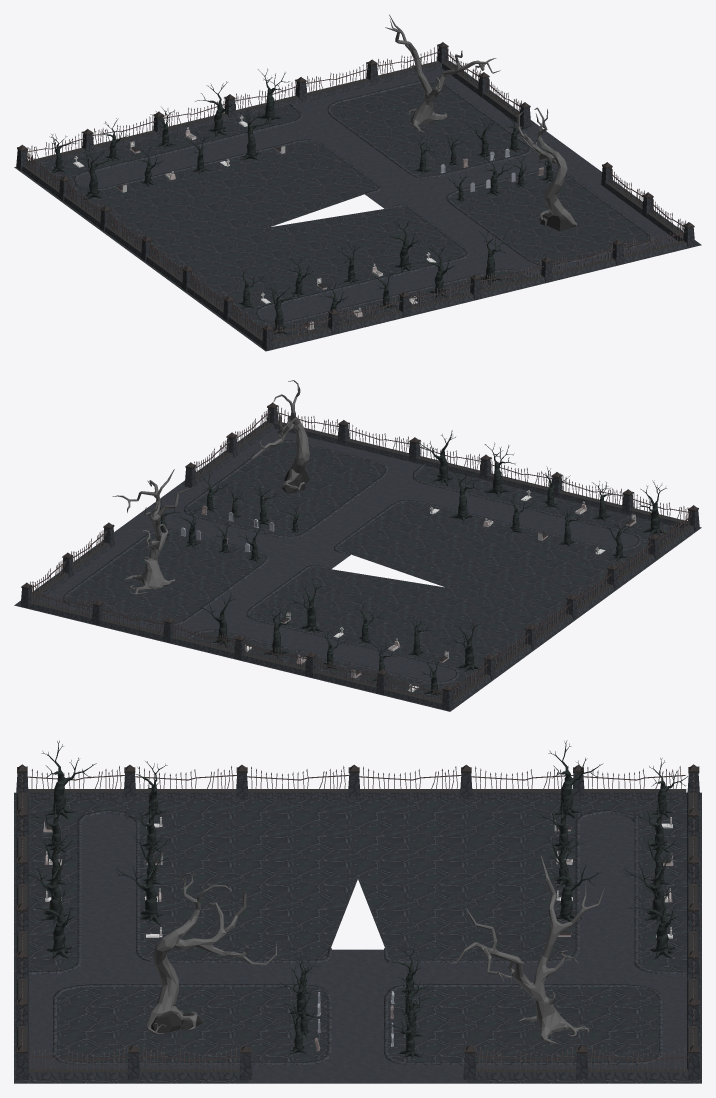
Rendered from fence.glb.
3 renders of one model, top to bottom at view 1: azimuth 30°, elevation 25°; view 2: azimuth 150°, elevation 25°; view 3: azimuth 270°, elevation 25°, orthographic. The views are drawn at different scales.
Parts seen in each view (by area): view 1: grass.001, gravel, Ext_RejaLapidas_Cube.005, walkway_curb, Ext_RejaLapidas_Cube.001, HWN20_Tree_06, HWN20_Tree_09, ColumnB.009, ColumnB.000; view 2: grass.001, gravel, Ext_RejaLapidas_Cube.005, walkway_curb, Ext_RejaLapidas_Cube.001, HWN20_Tree_09, HWN20_Tree_06, ColumnB.009, ColumnB.000; view 3: grass.001, gravel, Ext_RejaLapidas_Cube.001, walkway_curb, Ext_RejaLapidas_Cube.005, HWN20_Tree_06, HWN20_Tree_09, ColumnB.000, ColumnB.009, HWN20_Tree_01.008, HWN20_Tree_01.013, HWN20_Tree_01.022 (+9 smaller).
Part boxes in pixels (x1,y1,x2,y2): grass.001: (14, 61, 701, 351); gravel: (77, 68, 677, 321); Ext_RejaLapidas_Cube.005: (21, 45, 686, 348); walkway_curb: (74, 80, 652, 323); Ext_RejaLapidas_Cube.001: (21, 149, 266, 346); HWN20_Tree_06: (517, 107, 577, 231); HWN20_Tree_09: (385, 14, 500, 131); ColumnB.009: (604, 182, 683, 241); ColumnB.000: (442, 62, 518, 122); grass.001: (14, 421, 701, 711); gravel: (38, 428, 638, 682); Ext_RejaLapidas_Cube.005: (29, 405, 694, 708); walkway_curb: (63, 440, 641, 684); Ext_RejaLapidas_Cube.001: (452, 507, 694, 706); HWN20_Tree_09: (112, 469, 196, 594); HWN20_Tree_06: (250, 380, 309, 493); ColumnB.009: (195, 422, 273, 485); ColumnB.000: (32, 542, 110, 601); grass.001: (14, 792, 701, 1083); gravel: (28, 813, 687, 1083); Ext_RejaLapidas_Cube.001: (26, 764, 687, 799); walkway_curb: (28, 810, 687, 1074); Ext_RejaLapidas_Cube.005: (16, 773, 699, 1068); HWN20_Tree_06: (146, 870, 276, 1033); HWN20_Tree_09: (450, 855, 604, 1044); ColumnB.000: (476, 1069, 688, 1079); ColumnB.009: (28, 1069, 239, 1079); HWN20_Tree_01.008: (628, 884, 678, 959); HWN20_Tree_01.013: (25, 884, 75, 959); HWN20_Tree_01.022: (114, 849, 167, 924).
Size of what is drawn, in the model's own units: 79.8 by 19.6 by 79.8.
14 materials, 14 textured.
